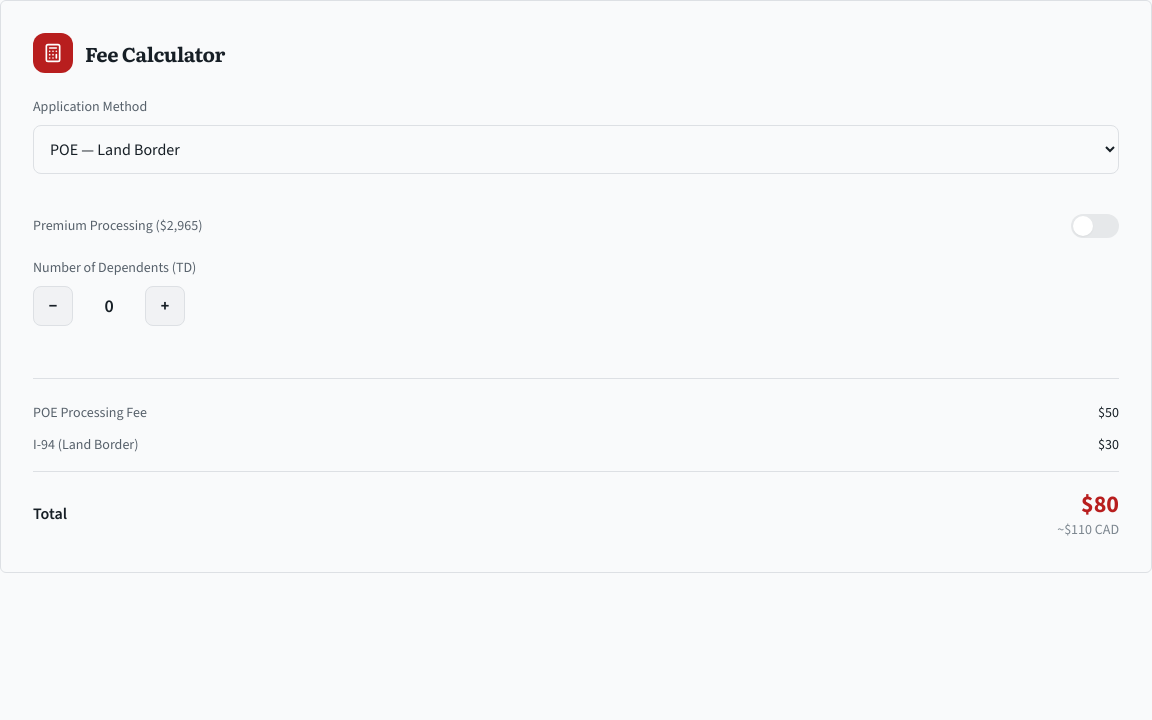
Scenario: FeeCalculator › adds premium processing fee
This screenshot has width=1152, height=720.
Click the switch named "Toggle premium processing" at (1095, 226), box [1071, 214, 1119, 238]
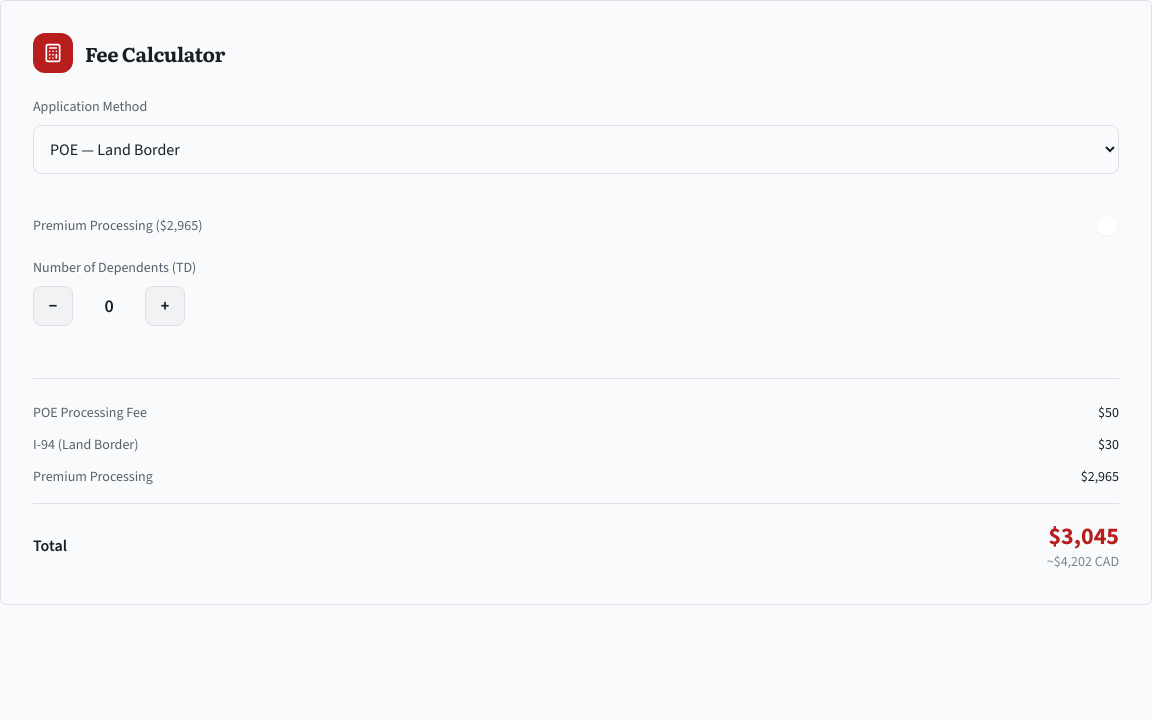
expect the text "$3,045" is shown: met, box [1048, 520, 1119, 552]
